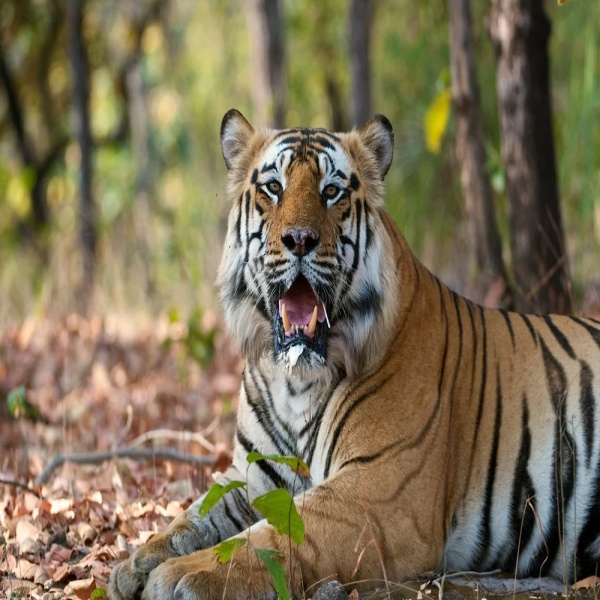Tiger: (108, 104, 600, 599)
